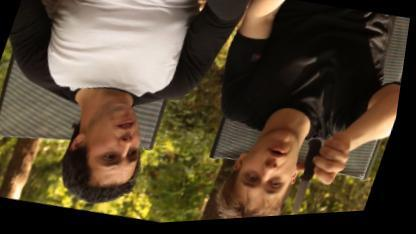knife: (288, 150, 352, 218)
